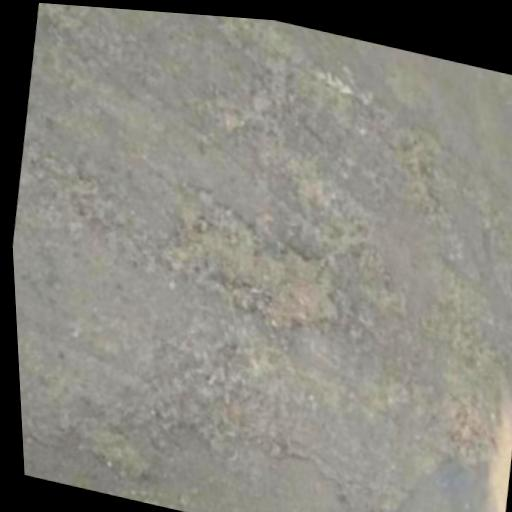pothole: (165, 188, 331, 322)
